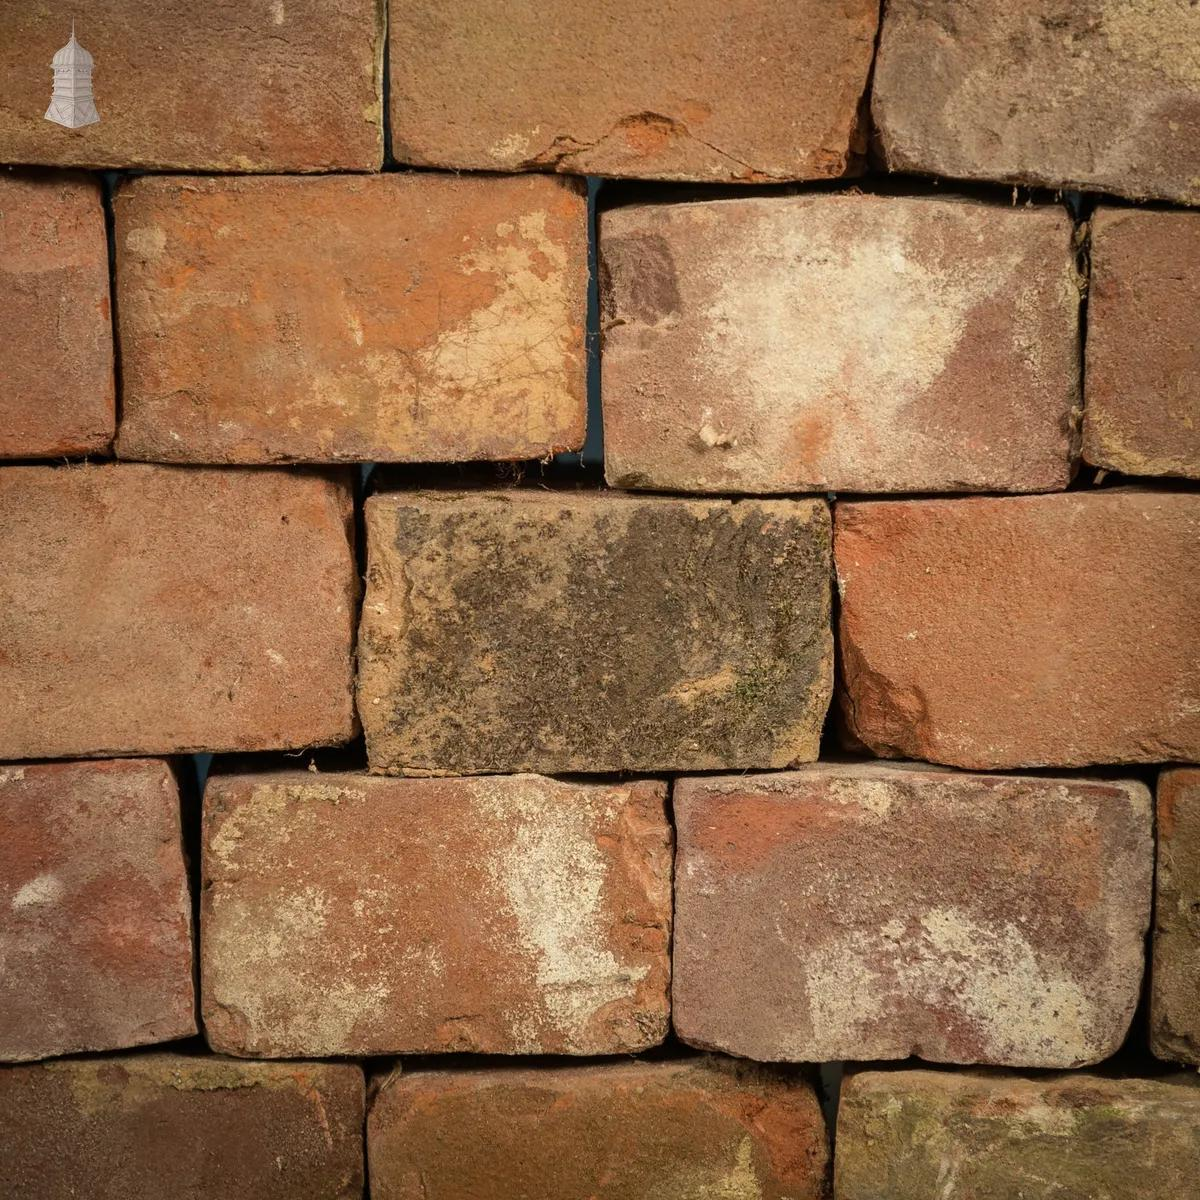brick: (603, 187, 1077, 497), (674, 774, 1140, 1070), (360, 487, 830, 774), (197, 774, 667, 1054), (130, 170, 590, 454), (0, 474, 354, 760), (843, 493, 1193, 764), (393, 0, 887, 174), (0, 754, 193, 1060), (870, 0, 1197, 180), (370, 1080, 816, 1200), (3, 1067, 357, 1193), (833, 1087, 1187, 1200), (7, 174, 123, 460), (1087, 213, 1200, 480)
